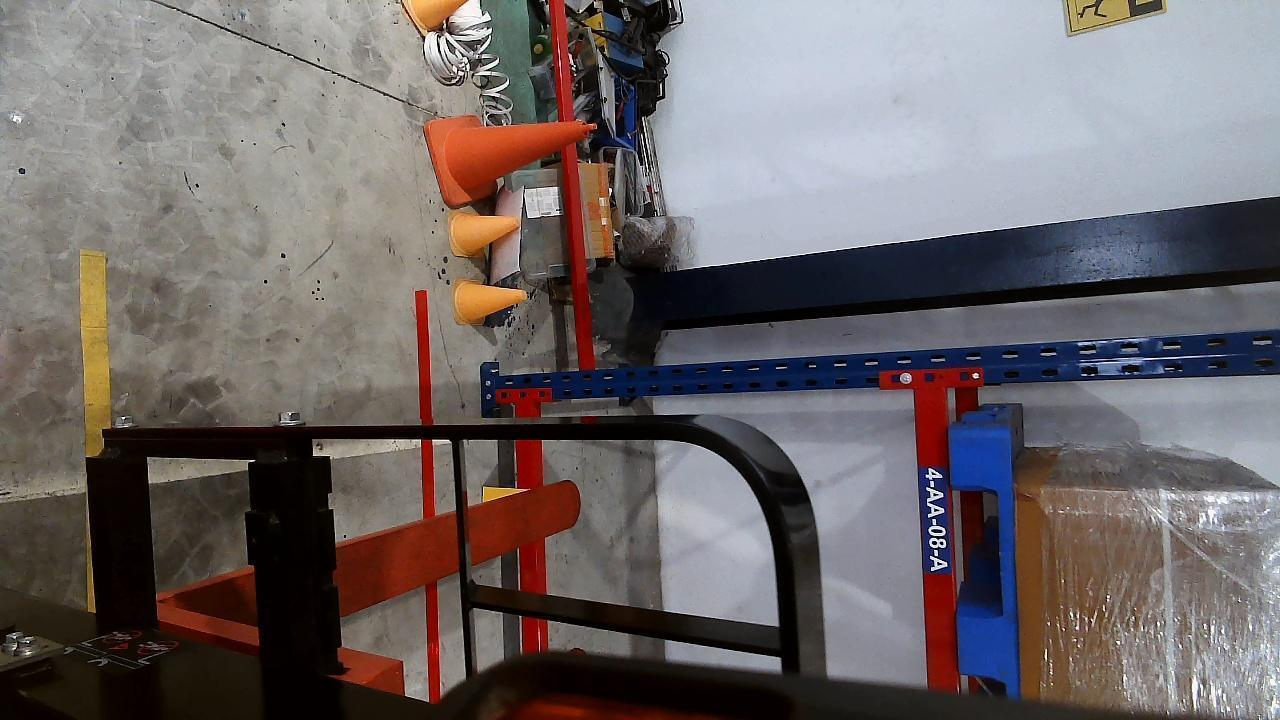red_line: (414, 289, 440, 693)
yellow_line: (79, 249, 112, 437)
